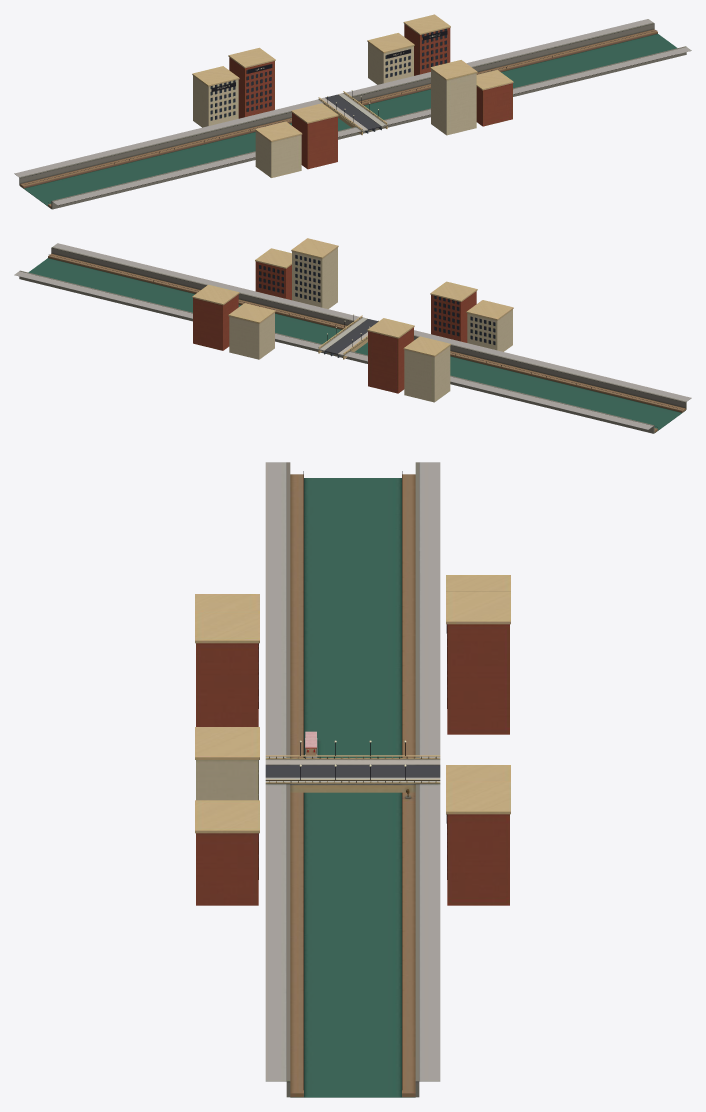
The model's file is puente_mke.glb.
3 views of the same model, one above another, from view 1: azimuth 30°, elevation 25°; view 2: azimuth 150°, elevation 25°; view 3: azimuth 270°, elevation 25° (orthographic). The views are drawn at different scales.
Visible parts, largest first — view 1: puente_mke; view 2: puente_mke; view 3: puente_mke.
Boxes of the visible parts, x1,y1,x2,y2 form: puente_mke: (14, 14, 691, 209); puente_mke: (14, 238, 691, 433); puente_mke: (195, 462, 510, 1097).
Bounding box in the file's own units: 420 × 36 × 90.6.
1 material, 1 textured.
